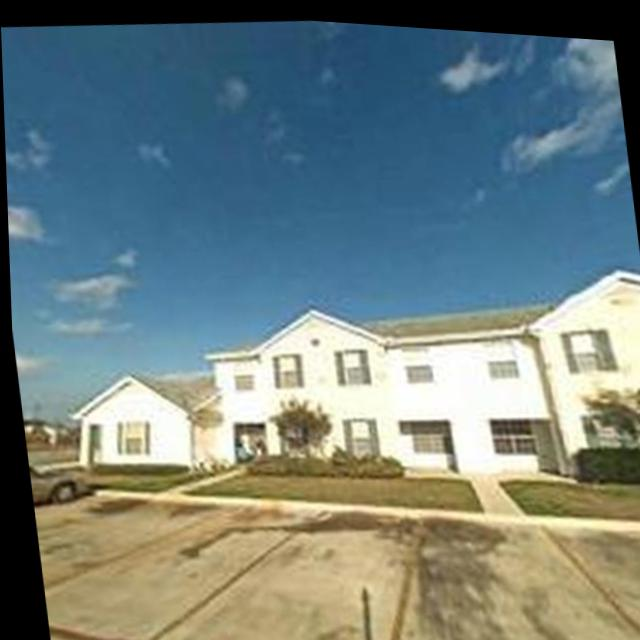building: (52, 223, 640, 525)
